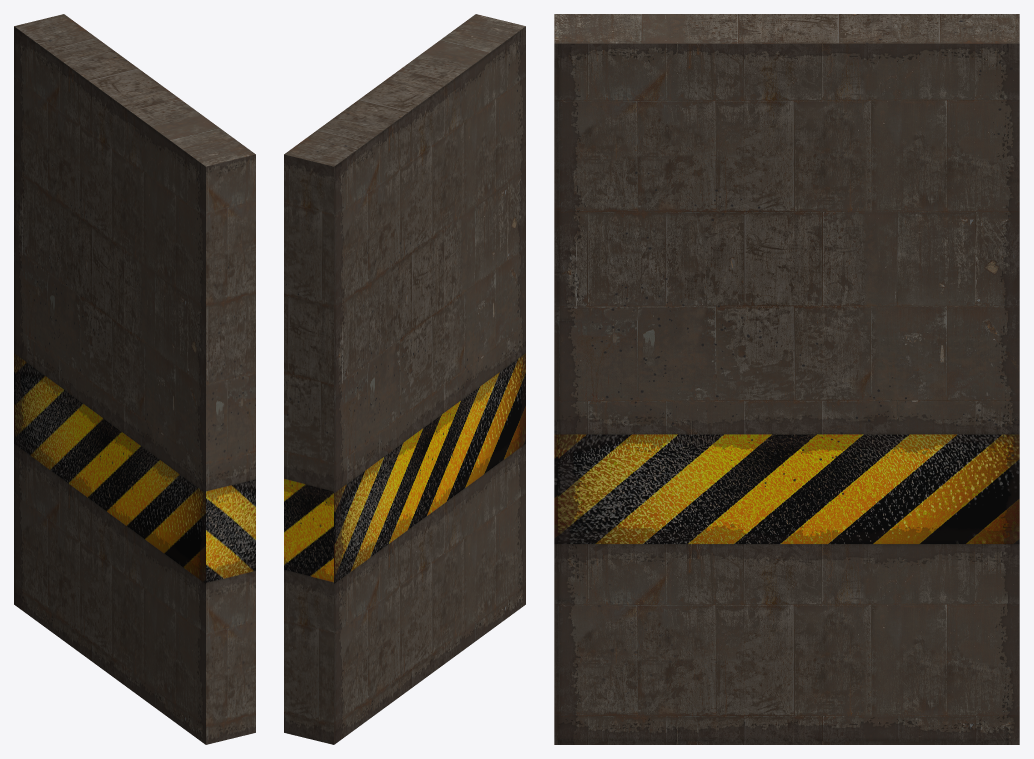
The model's file is metal_fnaf_door.glb.
The picture shows the model from 3 angles, left to right: view 1: azimuth 30°, elevation 25°; view 2: azimuth 150°, elevation 25°; view 3: azimuth 270°, elevation 25°; orthographic projection. The views are drawn at different scales.
Visible parts, largest first — view 1: Cube; view 2: Cube; view 3: Cube.
Boxes of the visible parts, x1=… form: Cube: x1=14, y1=14, x2=255, y2=744; Cube: x1=284, y1=14, x2=525, y2=744; Cube: x1=554, y1=14, x2=1019, y2=744.
Size of the model in its own units: 0.5337 by 5.89 by 3.54.
Materials: 1 (1 with a texture image).
